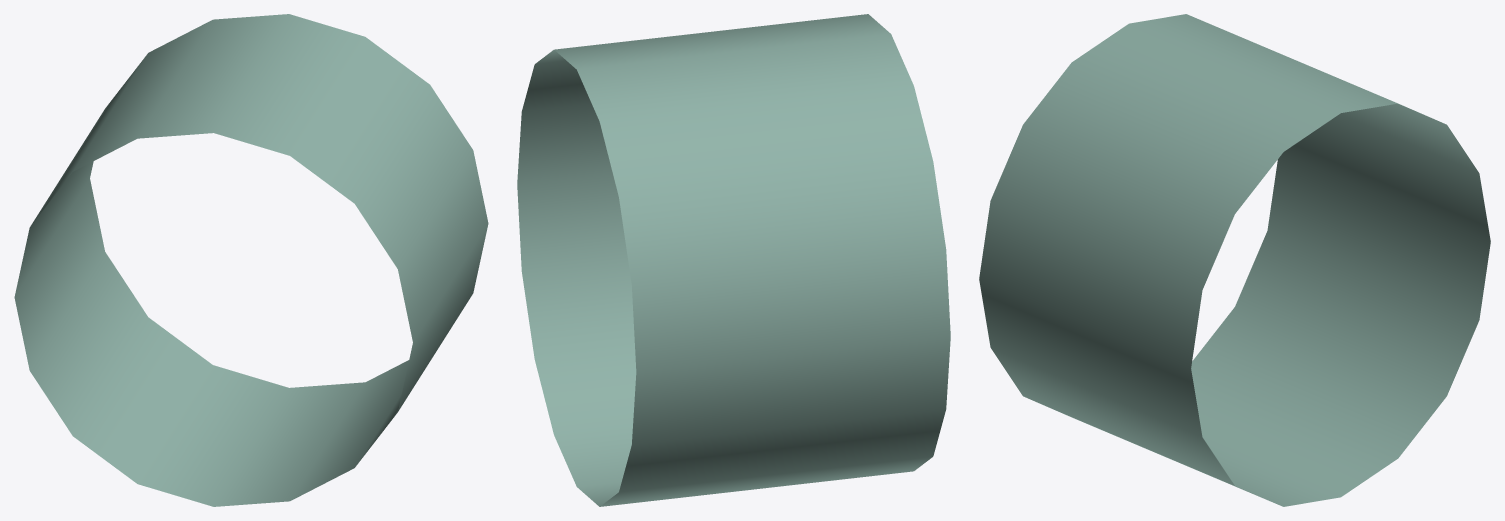
File: PipeLarge_StraightDiagonal_01.fbx
3 views of the same model, side by side, from view 1: azimuth 30°, elevation 25°; view 2: azimuth 150°, elevation 25°; view 3: azimuth 270°, elevation 25° (orthographic). The views are drawn at different scales.
Visible parts, largest first — view 1: PipeLarge_StraightDiagonal_01.001; view 2: PipeLarge_StraightDiagonal_01.001; view 3: PipeLarge_StraightDiagonal_01.001.
Part boxes in pixels (x1,y1,x2,y2): PipeLarge_StraightDiagonal_01.001: (14,14,488,506); PipeLarge_StraightDiagonal_01.001: (517,14,950,506); PipeLarge_StraightDiagonal_01.001: (979,14,1490,506).
Bounding box in the file's own units: 0.2414 × 0.2 × 0.2414.
